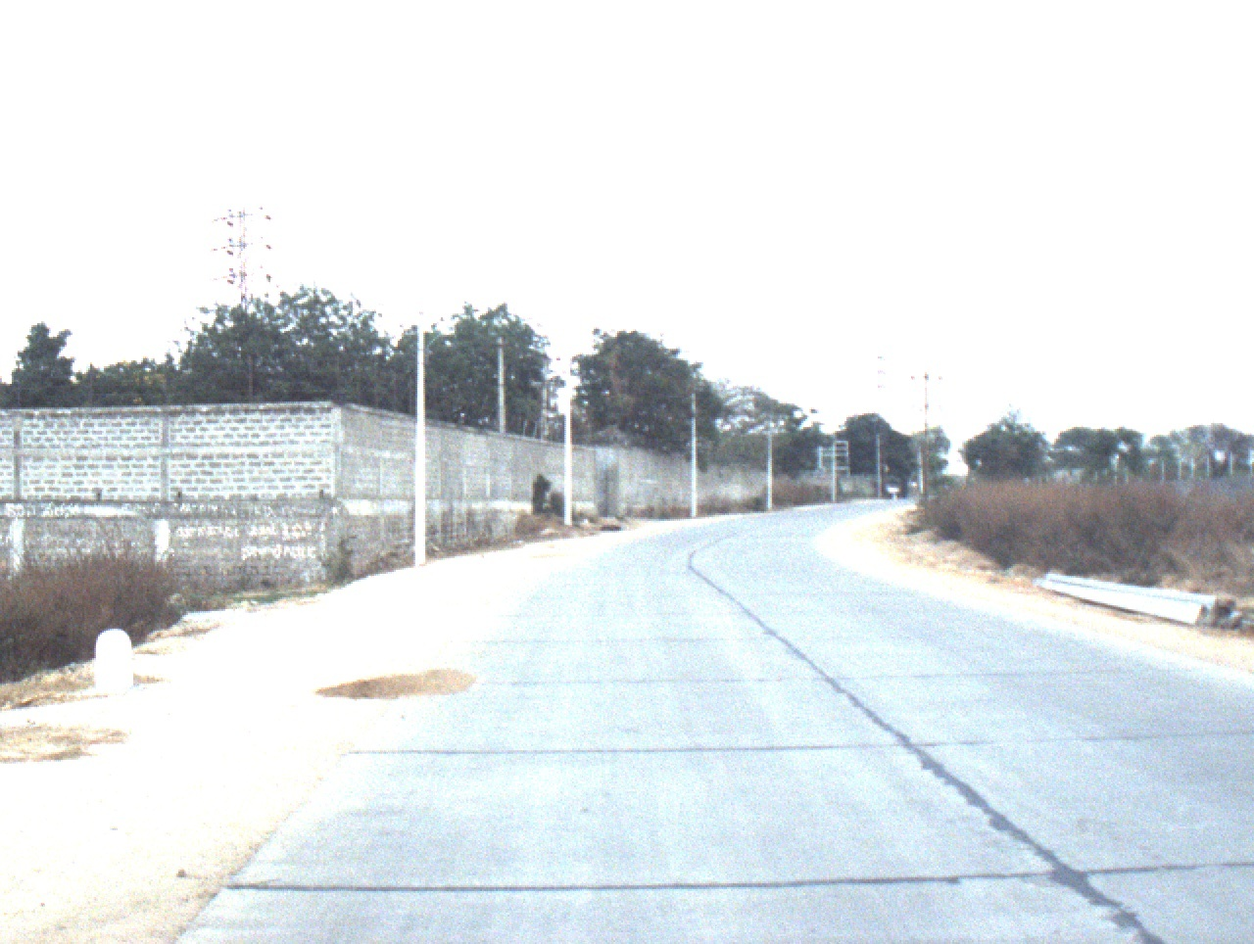car: (881, 481, 901, 499)
